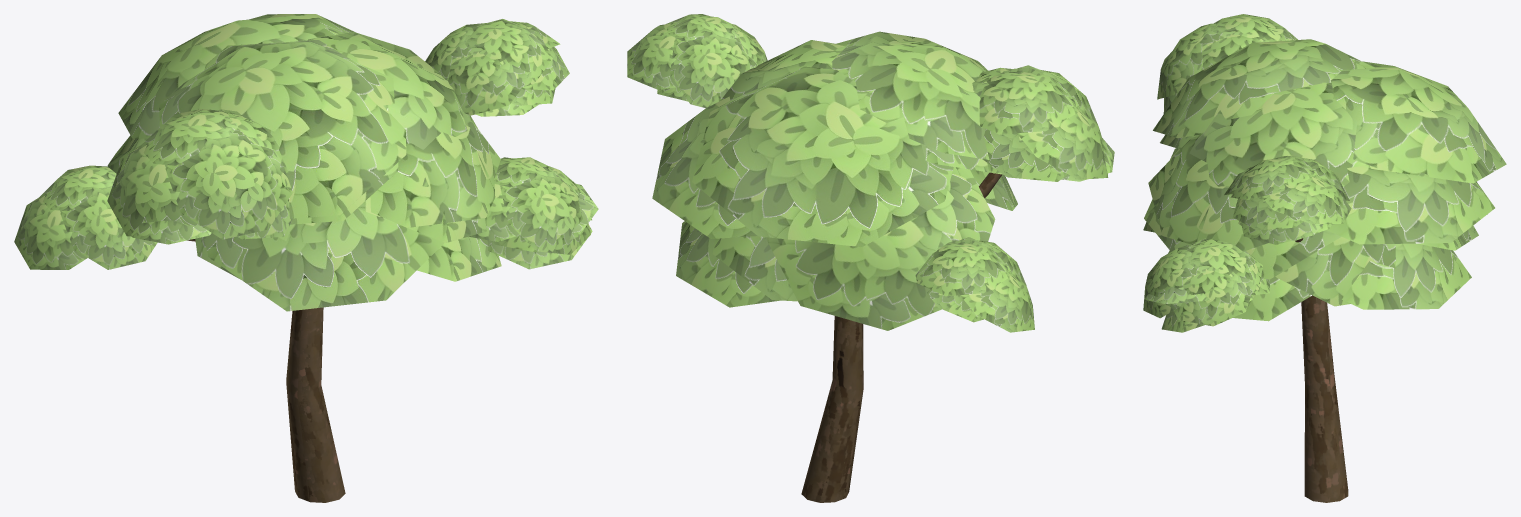
Rendered from tree_5.glb.
The picture shows the model from 3 angles, left to right: view 1: azimuth 30°, elevation 25°; view 2: azimuth 150°, elevation 25°; view 3: azimuth 270°, elevation 25°; orthographic projection. The views are drawn at different scales.
Parts seen in each view (by area): view 1: Tree_5; view 2: Tree_5; view 3: Tree_5.
Boxes of the visible parts, box(x1,y1,x2,y2) form: Tree_5: box(14, 14, 598, 502); Tree_5: box(627, 14, 1114, 502); Tree_5: box(1143, 14, 1506, 502).
Size of the model in its own units: 6.74 by 6.36 by 4.98.
Materials: 2 (2 with a texture image).
